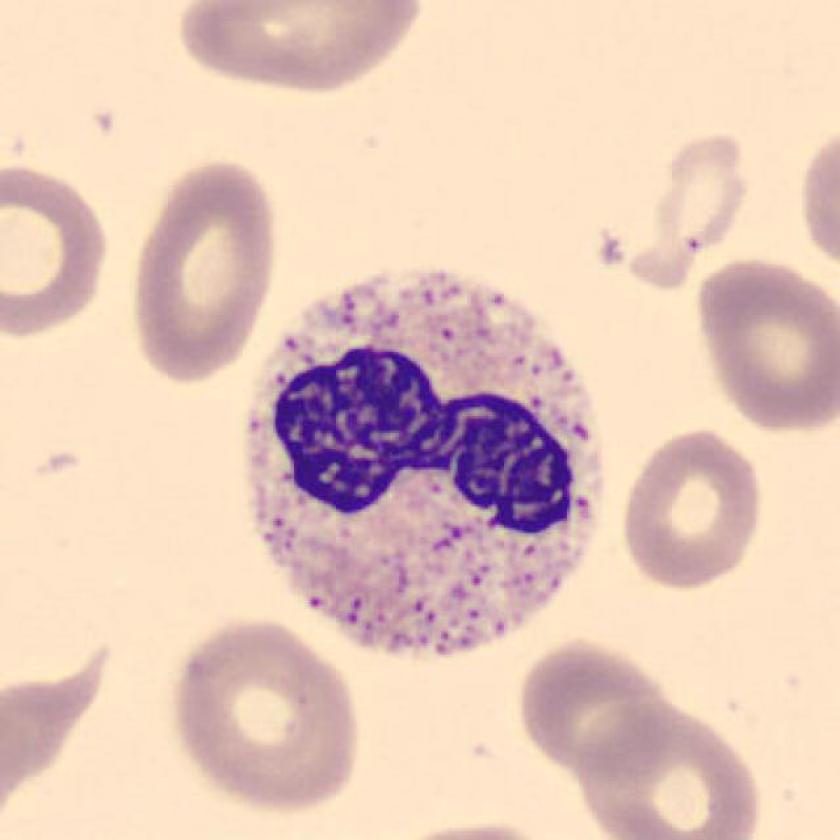neutrophil: (248, 272, 598, 654)
